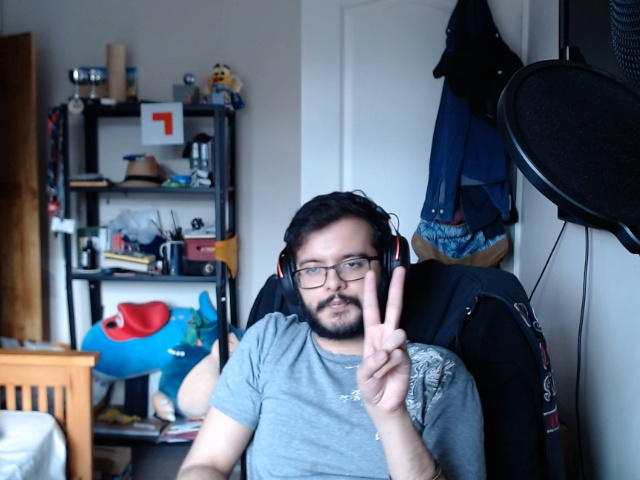Peace: (349, 259, 417, 412)
